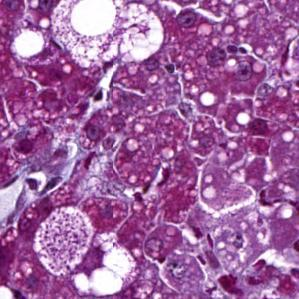ballooning: (67, 229, 140, 299), (112, 3, 167, 66)
